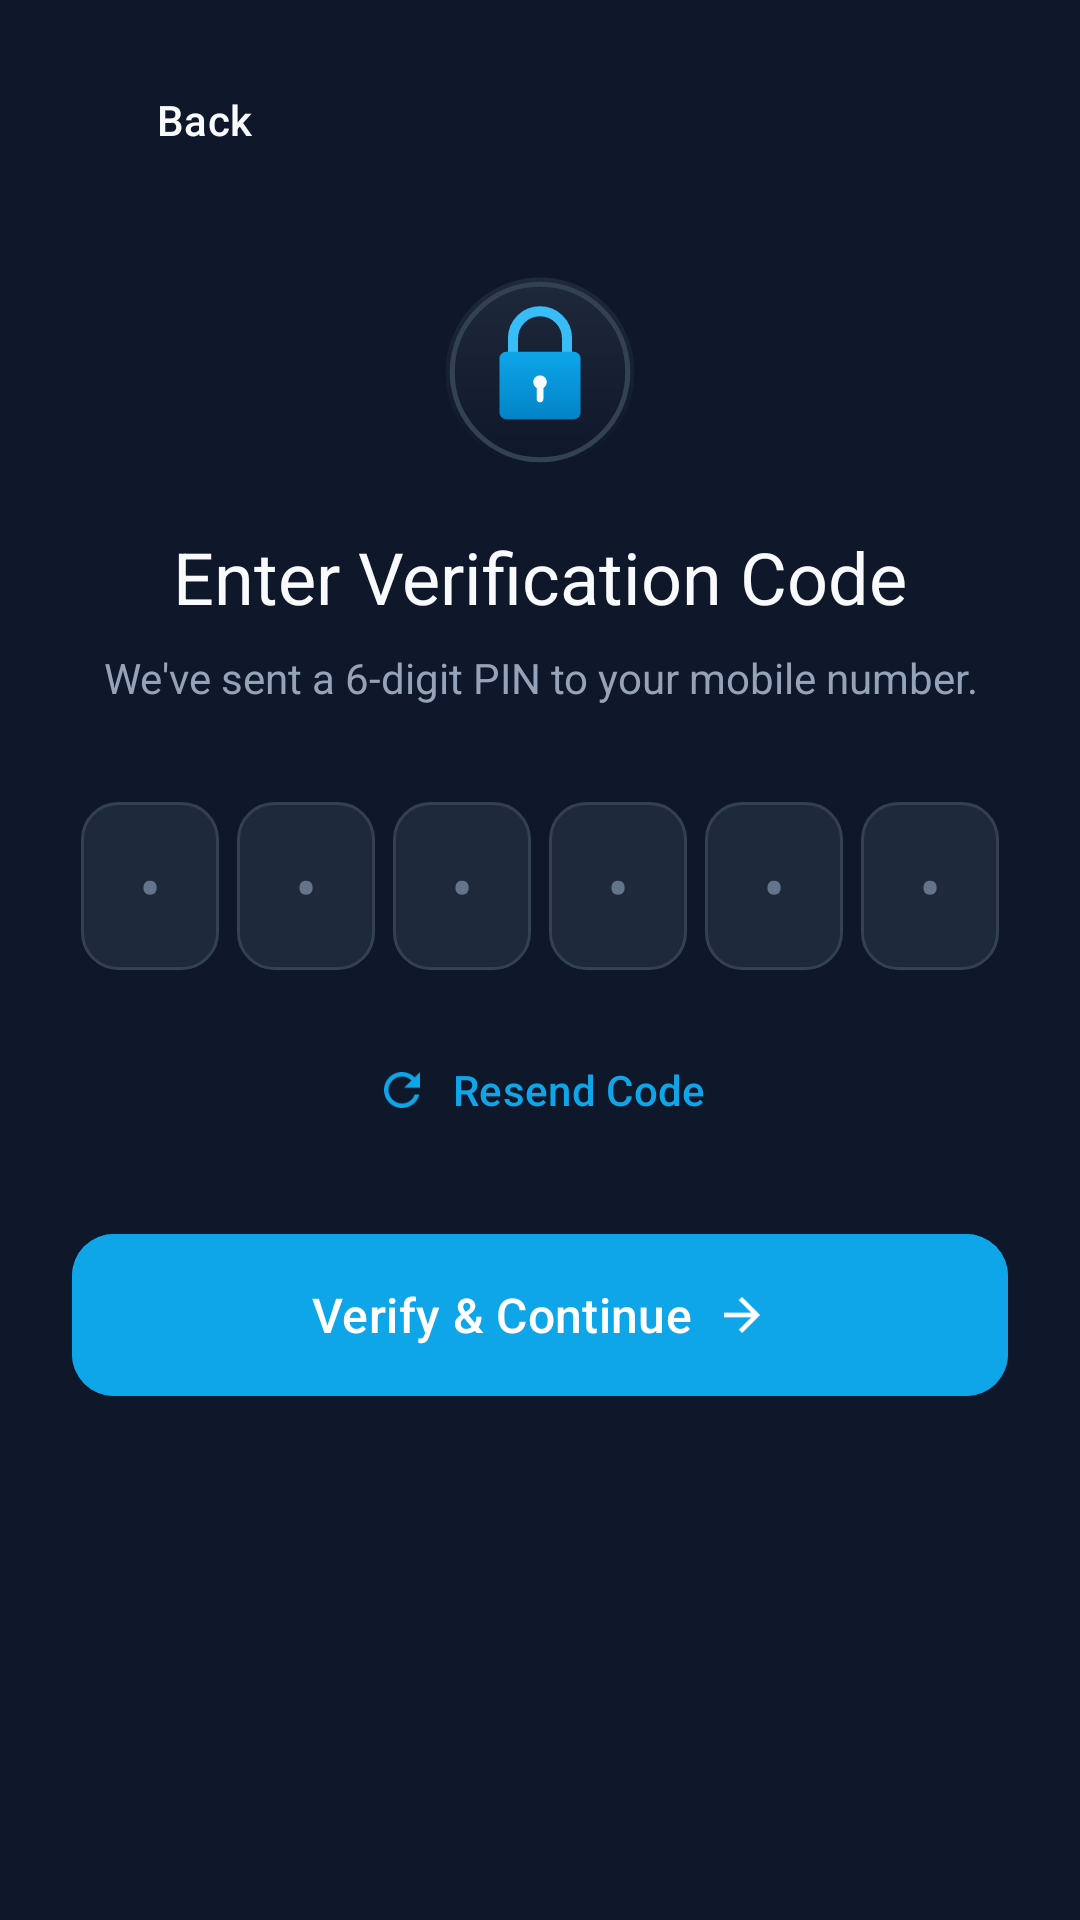

Icon click points for this 1080x1920 phone screenshot, format [x,y]:
Lock Icon: [540,372]
